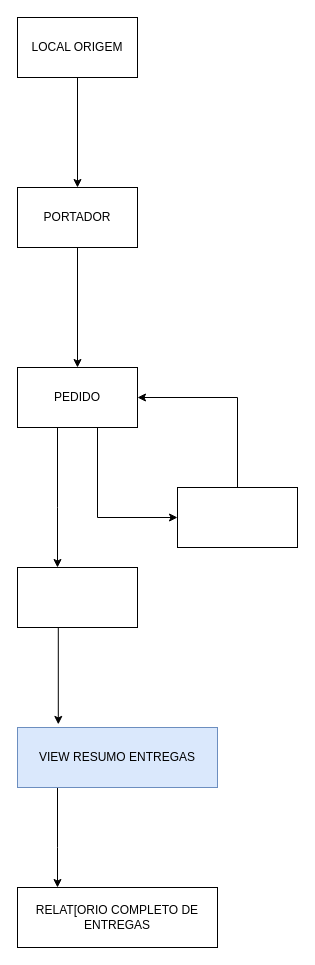
This 315x965 diagram has some shape labels left out. The centre of each missing label's shape, as x and y in pixels:
"LOCAL DESTINO" goes at point 77,597.
"PREPPER" goes at point 237,517.
